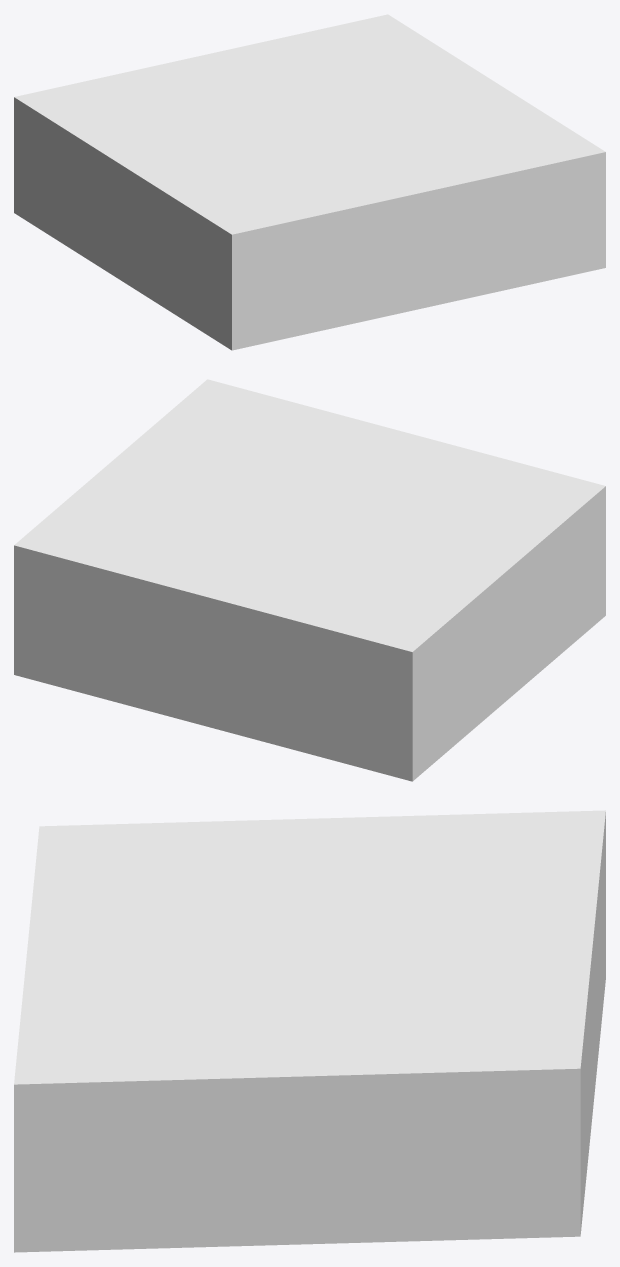
The model's file is LED_Light_01.fbx.
3 views of the same model, one above another, from view 1: azimuth 30°, elevation 25°; view 2: azimuth 150°, elevation 25°; view 3: azimuth 270°, elevation 25° (orthographic). The views are drawn at different scales.
Visible parts, largest first — view 1: Coverl_01; view 2: Coverl_01; view 3: Coverl_01.
Boxes of the visible parts, left/top/right/bottom form: Coverl_01: left=14, top=14, right=605, bottom=350; Coverl_01: left=14, top=379, right=605, bottom=781; Coverl_01: left=14, top=810, right=605, bottom=1252.
Size of the model in its own units: 4.13 by 1.18 by 3.77.
